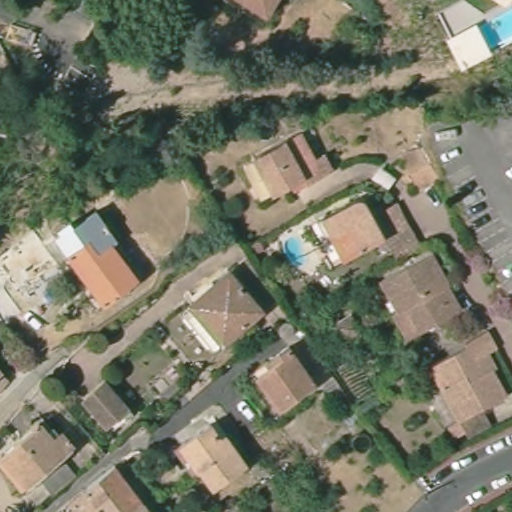pool: (479, 7, 512, 52), (284, 235, 310, 268)
